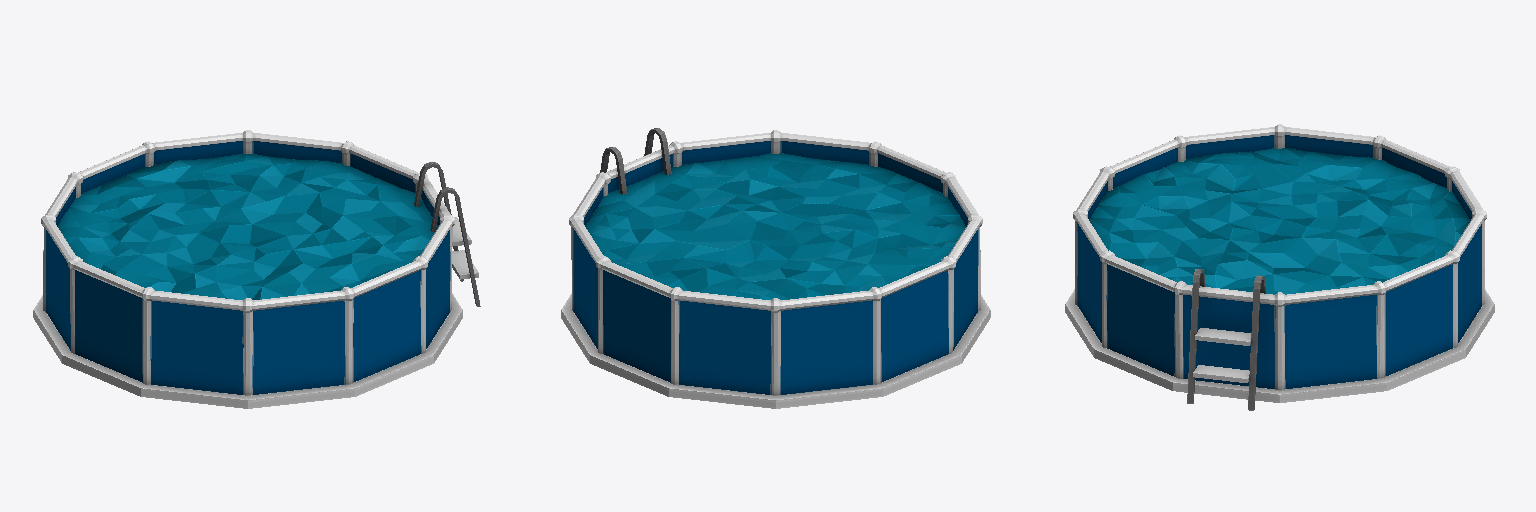
The picture shows the model from 3 angles: view 1: azimuth 30°, elevation 25°; view 2: azimuth 150°, elevation 25°; view 3: azimuth 270°, elevation 25°; orthographic projection.
Visible parts, largest first — view 1: AboveGroundSwimingPool_mesh; view 2: AboveGroundSwimingPool_mesh; view 3: AboveGroundSwimingPool_mesh.
Boxes of the visible parts, x1=… form: AboveGroundSwimingPool_mesh: x1=33, y1=130, x2=480, y2=408; AboveGroundSwimingPool_mesh: x1=561, y1=128, x2=990, y2=408; AboveGroundSwimingPool_mesh: x1=1065, y1=124, x2=1494, y2=410.
Size of the model in its own units: 17.16 by 5.11 by 16.46.
Materials: 1 (1 with a texture image).